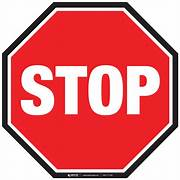stop: (3, 5, 178, 179)
